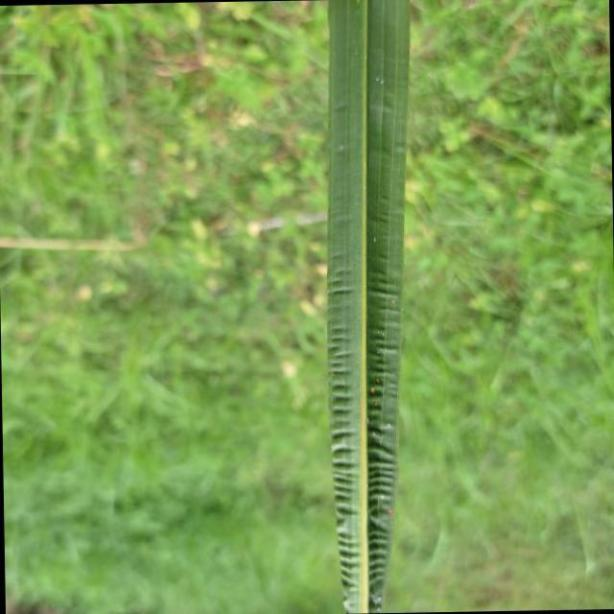Boron: (323, 0, 416, 614)
